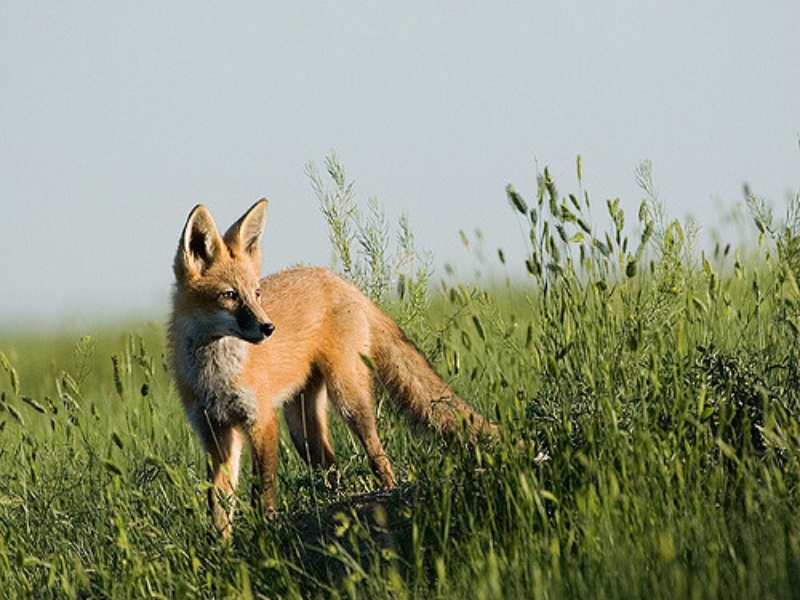fox: (163, 195, 512, 545)
